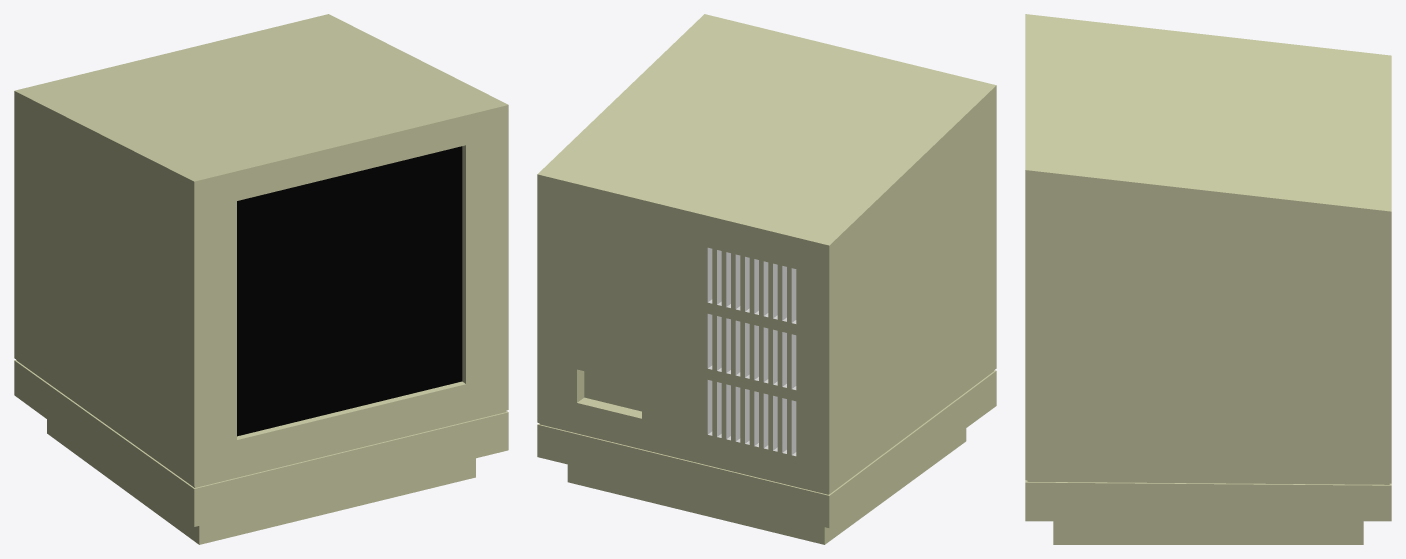
Rendered from monitor.glb.
3 views of the same model, side by side, from view 1: azimuth 30°, elevation 25°; view 2: azimuth 150°, elevation 25°; view 3: azimuth 270°, elevation 25° (orthographic). The views are drawn at different scales.
Visible parts, largest first — view 1: monitor; view 2: monitor; view 3: monitor.
Boxes of the visible parts, x1=… form: monitor: x1=14, y1=14, x2=508, y2=544; monitor: x1=537, y1=14, x2=996, y2=544; monitor: x1=1025, y1=14, x2=1391, y2=544.
Size of the model in its own units: 2.76 by 3.16 by 2.73.
